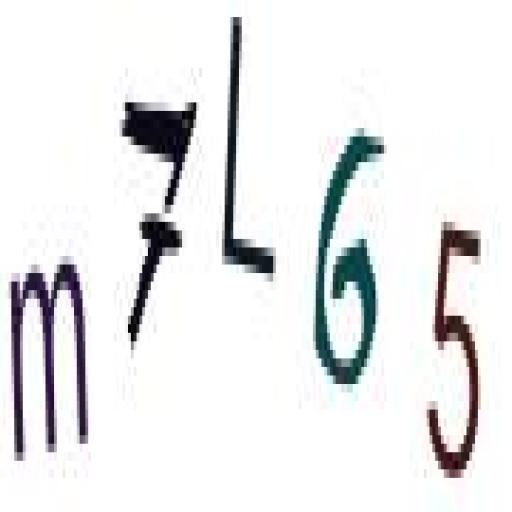5: (423, 200, 487, 490)
6: (309, 116, 389, 399)
7: (117, 74, 202, 366)
L: (216, 13, 281, 318)
m: (8, 256, 96, 470)
